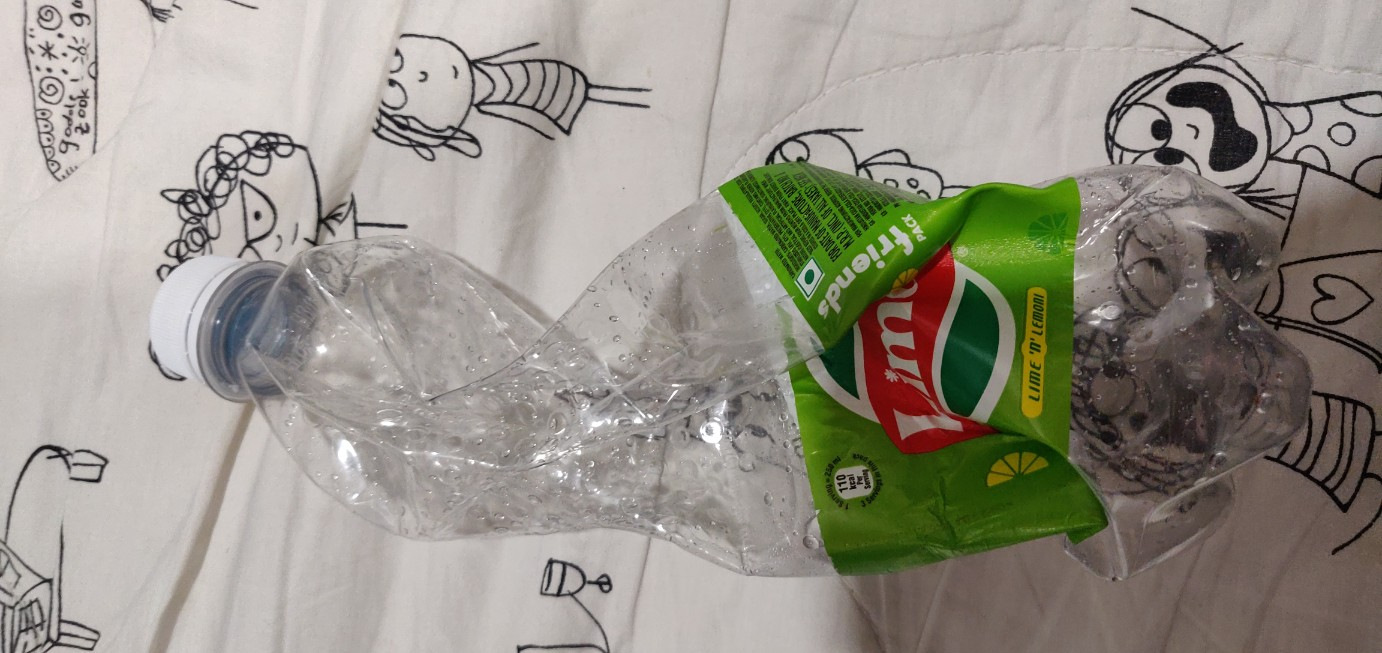Electronics: (117, 134, 1345, 598)
